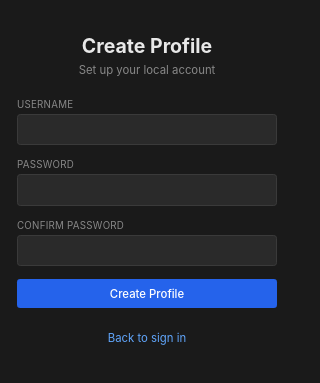
Test: RegisterPage › shows validation error when passwords do not match
The width and height of the screenshot is (320, 383).
In the field labelled "Username": (147, 130) x1=17 y1=114 x2=277 y2=145, type "newuser"
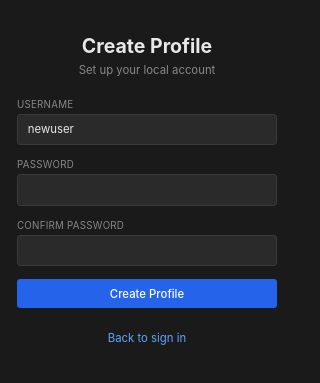
In the password field labelled "Password": (147, 190) x1=17 y1=174 x2=277 y2=206, type "securepass1"
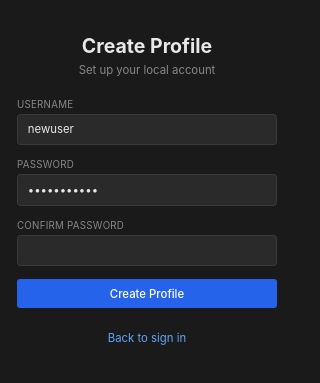
In the password field labelled "Confirm Password": (147, 251) x1=17 y1=235 x2=277 y2=266, type "differentpass"
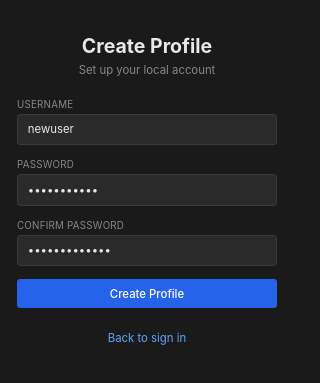
Click the button "Create Profile": (147, 294) x1=17 y1=279 x2=277 y2=308
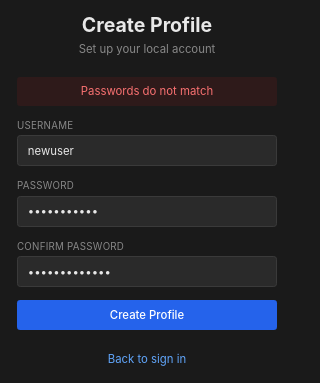
Check: the text "Passwords do not match" is shown, box x1=17 y1=76 x2=277 y2=106
